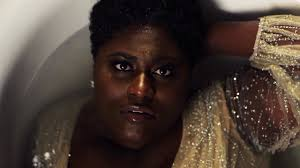black_female: (70, 1, 246, 162)
